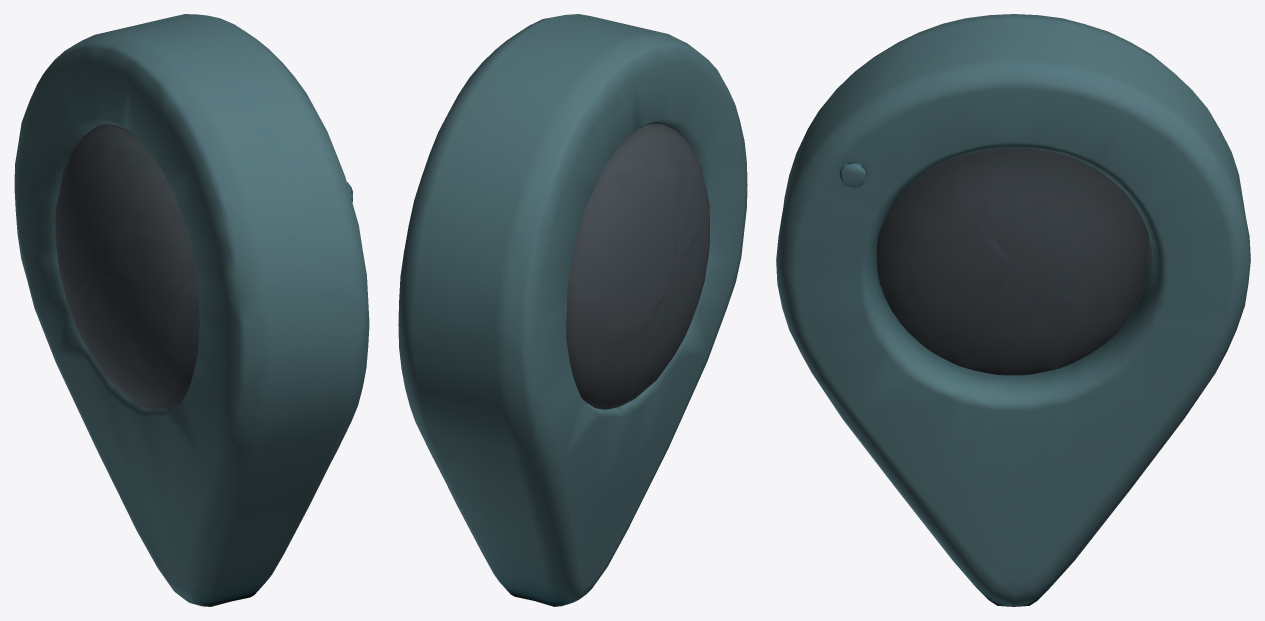
Rendered from icon-pin.glb.
The picture shows the model from 3 angles, left to right: view 1: azimuth 30°, elevation 25°; view 2: azimuth 150°, elevation 25°; view 3: azimuth 270°, elevation 25°; orthographic projection. The views are drawn at different scales.
Visible parts, largest first — view 1: tripo_node_kodyurd-model-57____________________; view 2: tripo_node_kodyurd-model-57____________________; view 3: tripo_node_kodyurd-model-57____________________.
Boxes of the visible parts, <box> form: tripo_node_kodyurd-model-57____________________: <box>14,14,369,606</box>; tripo_node_kodyurd-model-57____________________: <box>398,14,747,606</box>; tripo_node_kodyurd-model-57____________________: <box>776,14,1250,606</box>.
Size of the model in its own units: 0.3184 by 0.998 by 0.7832.
Materials: 1 (1 with a texture image).
